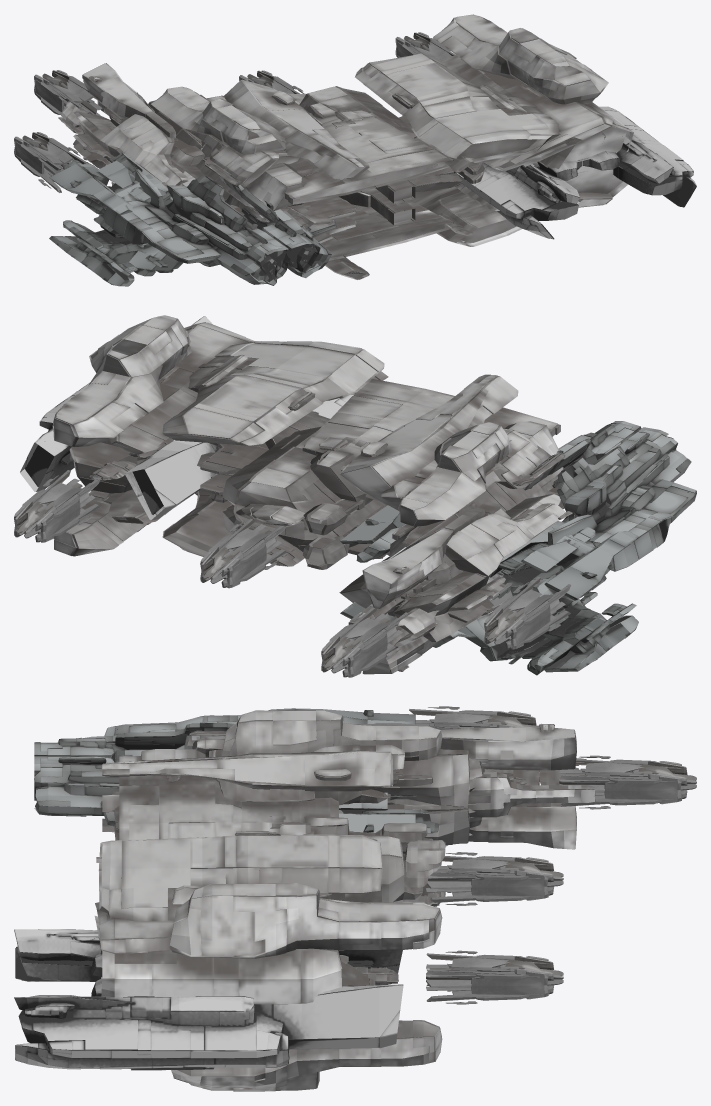
File: MOTHERSHIP_005.fbx
3 views of the same model, one above another, from view 1: azimuth 30°, elevation 25°; view 2: azimuth 150°, elevation 25°; view 3: azimuth 270°, elevation 25° (orthographic). The views are drawn at different scales.
Visible parts, largest first — view 1: MOTHERSHIP_005; view 2: MOTHERSHIP_005; view 3: MOTHERSHIP_005.
Part boxes in pixels (x1,y1,x2,y2): MOTHERSHIP_005: (14, 14, 696, 286); MOTHERSHIP_005: (14, 315, 696, 677); MOTHERSHIP_005: (14, 706, 696, 1091).
Bounding box in the file's own units: 119 × 33.95 × 108.
